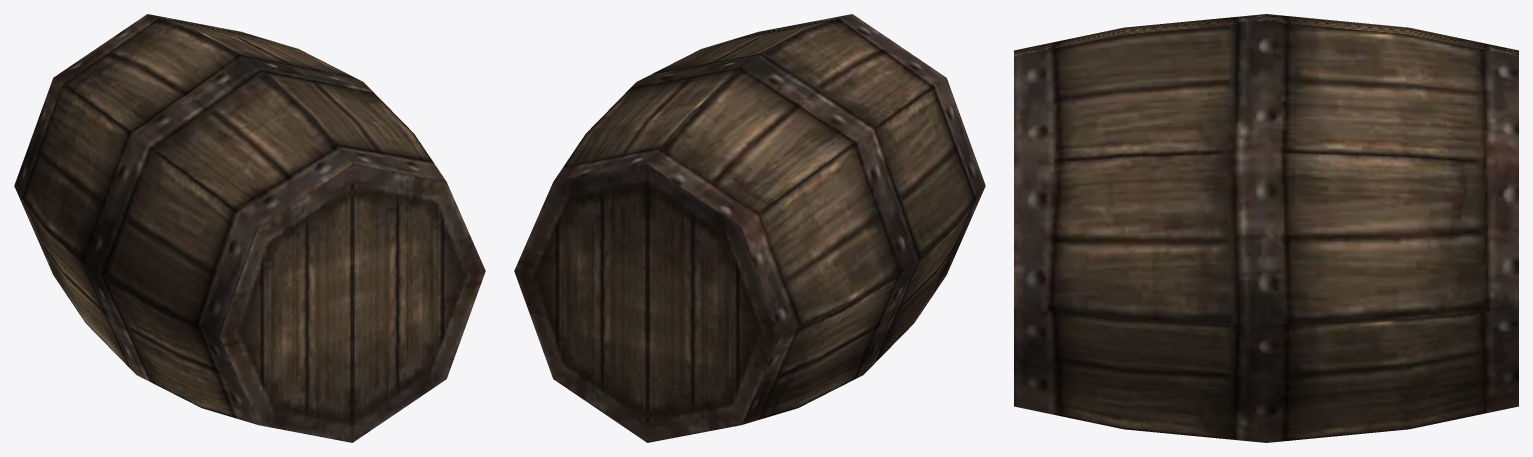
3 renders of one model, left to right at view 1: azimuth 30°, elevation 25°; view 2: azimuth 150°, elevation 25°; view 3: azimuth 270°, elevation 25°, orthographic. The views are drawn at different scales.
Visible parts, largest first — view 1: model_Object35; view 2: model_Object35; view 3: model_Object35.
Part boxes in pixels (x1,y1,x2,y2): model_Object35: (14,14,485,442); model_Object35: (514,14,985,442); model_Object35: (1014,14,1518,442).
Bounding box in the file's own units: 1.08 × 1.08 × 1.19.
1 material, 1 textured.
